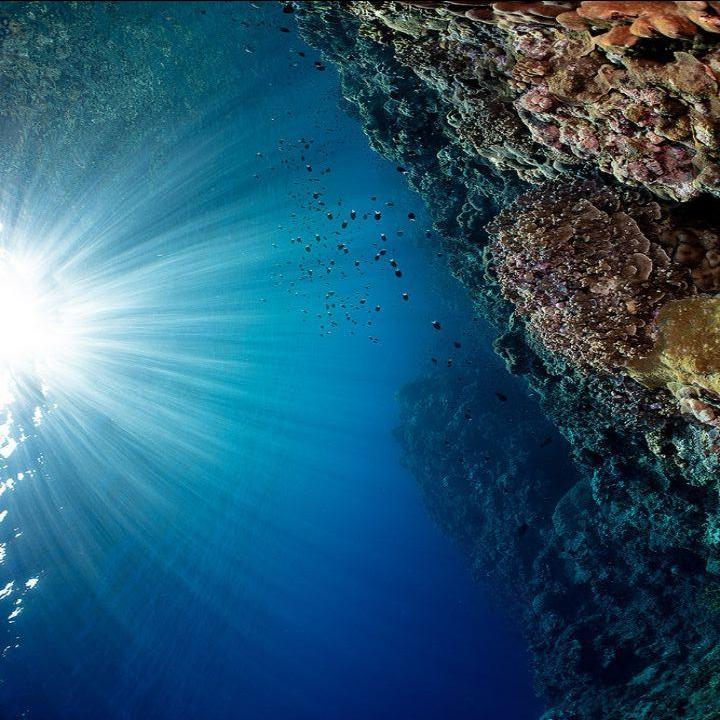Healthy Coral: (313, 3, 719, 708)
